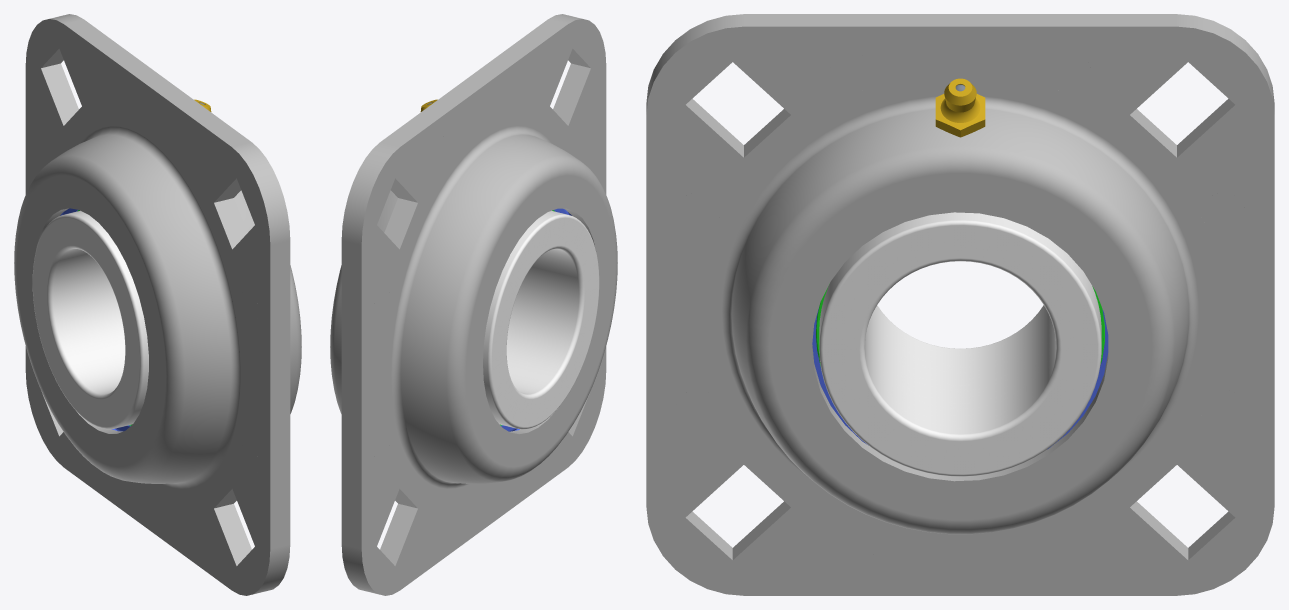
Rendered from DHU-1-12R209.glb.
The picture shows the model from 3 angles, left to right: view 1: azimuth 30°, elevation 25°; view 2: azimuth 150°, elevation 25°; view 3: azimuth 270°, elevation 25°; orthographic projection. The views are drawn at different scales.
Parts seen in each view (by area): view 1: carbon steel, texture; view 2: carbon steel, texture; view 3: carbon steel, texture, polished brass, texture-3.
Boxes of the visible parts, x1=… form: carbon steel: x1=14, y1=14, x2=301, y2=595; texture: x1=32, y1=210, x2=148, y2=429; carbon steel: x1=330, y1=14, x2=617, y2=595; texture: x1=483, y1=210, x2=599, y2=429; carbon steel: x1=646, y1=14, x2=1274, y2=595; texture: x1=819, y1=212, x2=1101, y2=476; polished brass: x1=935, y1=78, x2=985, y2=137; texture-3: x1=812, y1=308, x2=1108, y2=449.
Size of the model in its own units: 0.0429 by 0.127 by 0.127.
11 materials, 7 textured.
